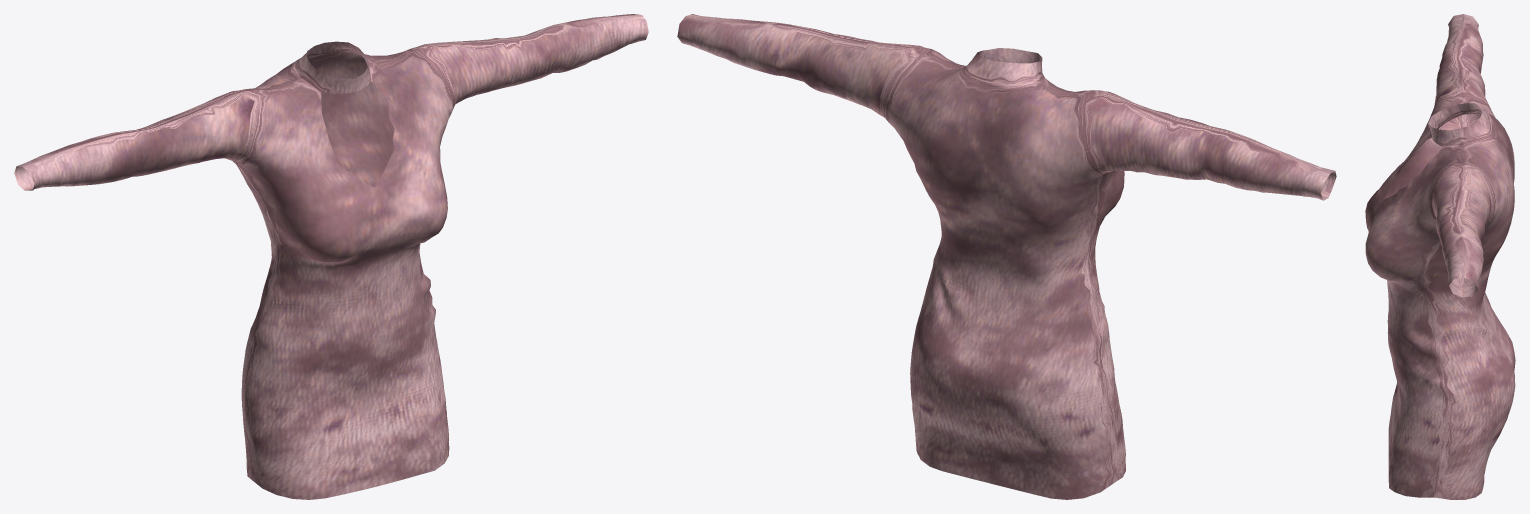
File: medium_velvetDress_noinside.obj
3 views of the same model, side by side, from view 1: azimuth 30°, elevation 25°; view 2: azimuth 150°, elevation 25°; view 3: azimuth 270°, elevation 25° (orthographic). The views are drawn at different scales.
Parts seen in each view (by area): view 1: medium_velvetDress:polySurface1; view 2: medium_velvetDress:polySurface1; view 3: medium_velvetDress:polySurface1.
Boxes of the visible parts, x1,y1,x2,y2 form: medium_velvetDress:polySurface1: (14,14,648,499); medium_velvetDress:polySurface1: (677,14,1336,499); medium_velvetDress:polySurface1: (1365,14,1515,499).
Size of the model in its own units: 12.19 by 7.64 by 2.92.
Materials: 8 (8 with a texture image).
